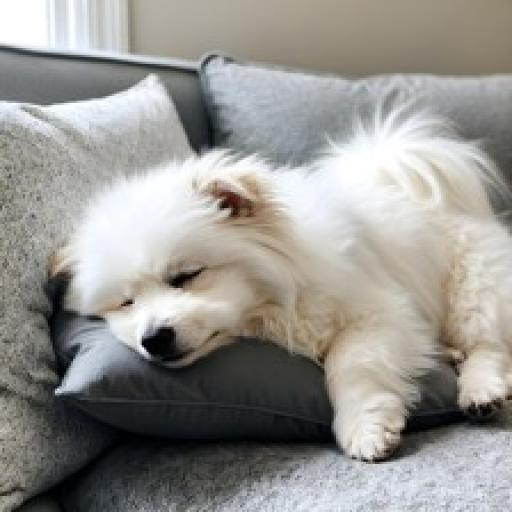dog: (41, 105, 512, 466)
